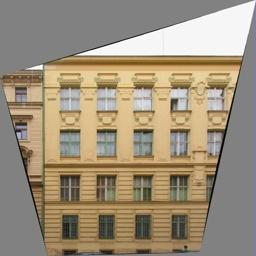building: (43, 55, 242, 256)
